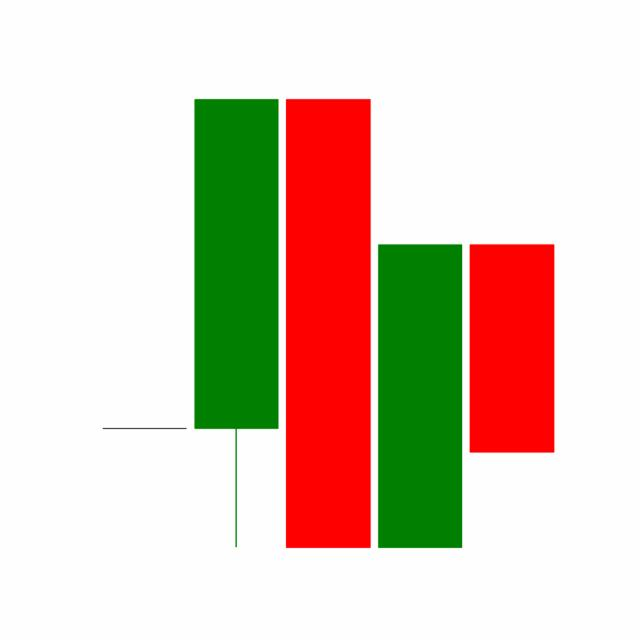Marubozu: (464, 242, 558, 454)
